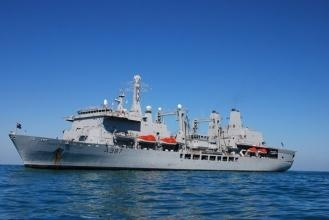warship: (7, 75, 303, 169)
